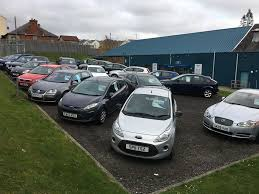car: (110, 86, 184, 161), (57, 75, 131, 122), (203, 88, 259, 144), (157, 74, 220, 98)
